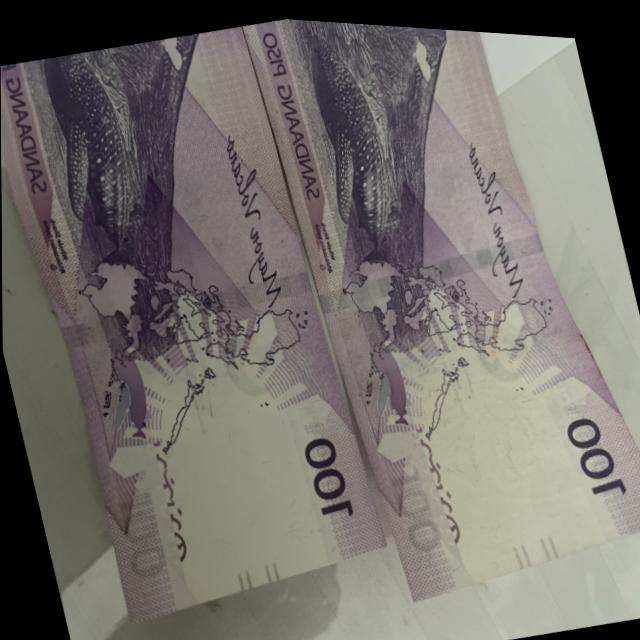100_whale: (24, 41, 170, 311), (291, 22, 417, 289)
100_whale_watermark: (342, 298, 434, 438), (83, 326, 179, 454)
watermark: (101, 359, 329, 586), (405, 351, 629, 570)
